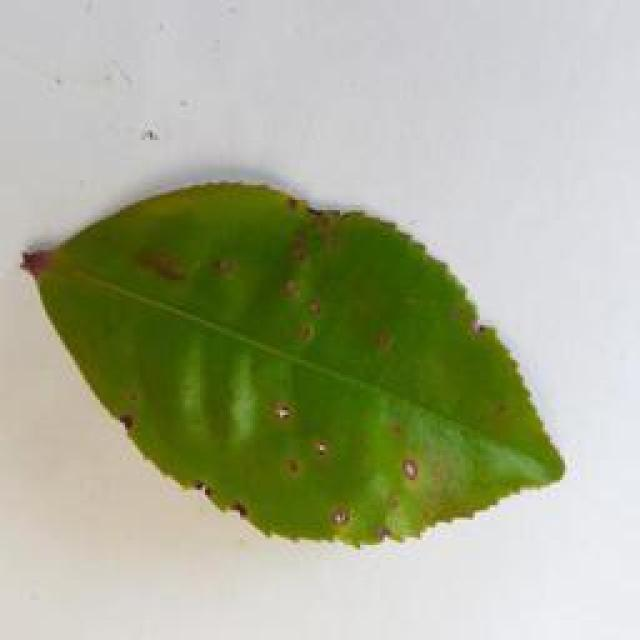Helopeltis: (24, 174, 569, 560)
